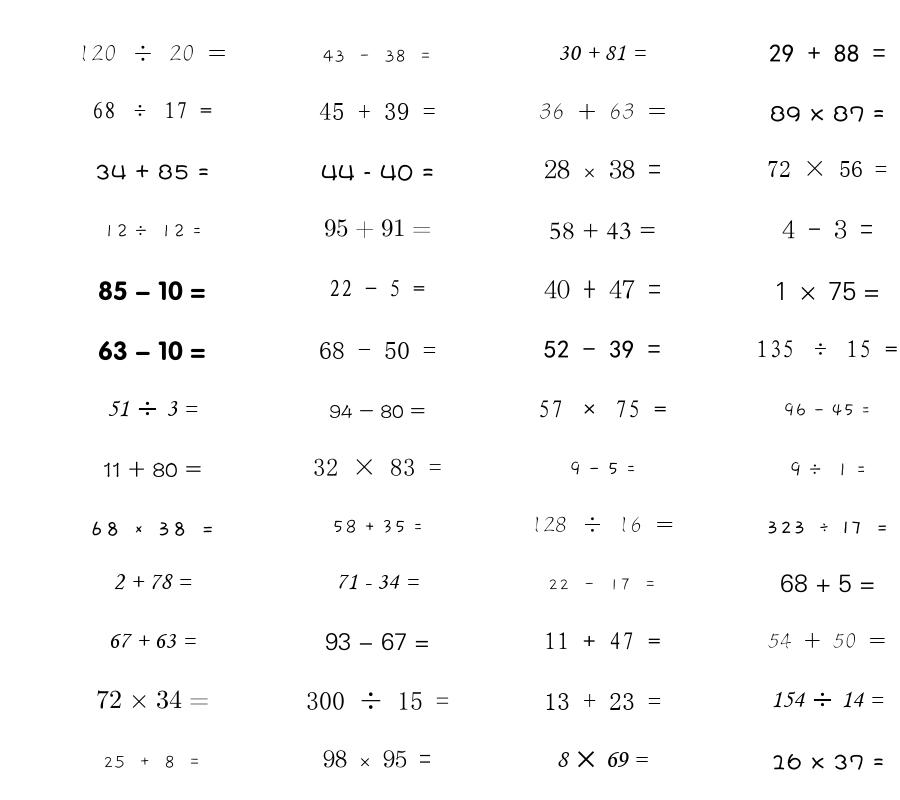MQ: (306, 691, 449, 710), (756, 340, 898, 358), (78, 45, 226, 62), (531, 516, 674, 533), (544, 159, 661, 179), (544, 279, 661, 299), (538, 400, 667, 418), (313, 458, 442, 476), (92, 101, 212, 119), (98, 281, 206, 301), (98, 341, 206, 361), (539, 103, 666, 120), (96, 690, 209, 709), (324, 219, 431, 239), (769, 44, 886, 62), (319, 102, 436, 120), (544, 340, 661, 358), (544, 632, 661, 650), (767, 160, 887, 177), (774, 282, 880, 301), (325, 632, 430, 651), (319, 342, 436, 359), (544, 693, 661, 710), (770, 105, 885, 122), (323, 750, 431, 768), (549, 222, 656, 240), (321, 164, 434, 181), (771, 691, 884, 708), (771, 753, 884, 770), (89, 521, 215, 536), (768, 633, 886, 649), (95, 164, 209, 180), (780, 574, 875, 593), (782, 220, 873, 239), (329, 279, 425, 297), (103, 461, 202, 478), (766, 521, 889, 534), (556, 751, 648, 768), (107, 400, 198, 417), (323, 49, 432, 63), (329, 404, 425, 419), (548, 578, 657, 591), (558, 45, 646, 61), (103, 224, 202, 238), (103, 755, 201, 769), (332, 519, 423, 534), (336, 574, 419, 590), (108, 633, 196, 648), (113, 574, 192, 590), (783, 403, 871, 417), (789, 461, 866, 477), (569, 461, 636, 476)
